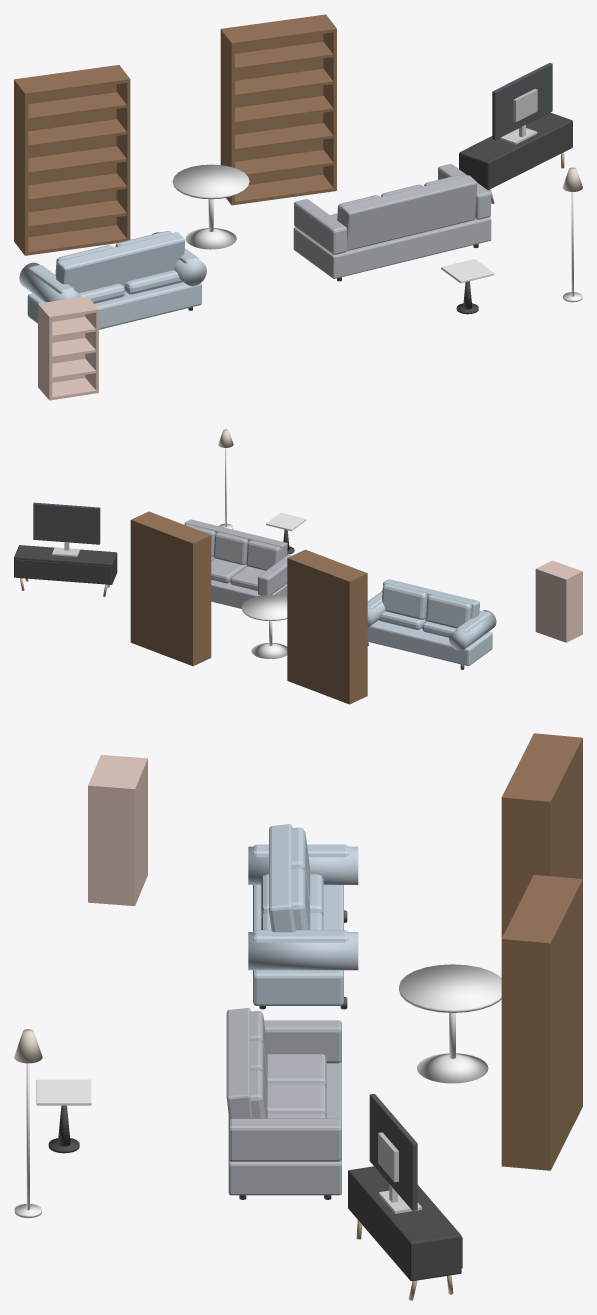
Rendered from agent_scene.glb.
3 renders of one model, top to bottom at view 1: azimuth 30°, elevation 25°; view 2: azimuth 150°, elevation 25°; view 3: azimuth 270°, elevation 25°, orthographic. The views are drawn at different scales.
Visible parts, largest first — view 1: SofaGray_back, BookshelfB_back, BookshelfA_back, SofaGray_base, SofaBlue_back, TVConsole_body, SofaBlue_base, TVConsole_panel, BookshelfA_sideL, TableRound_top, BookshelfA_top, BookshelfB_top (+33 smaller); view 2: BookshelfB_back, BookshelfA_back, SofaBlue_base, TVConsole_panel, BookshelfB_sideL, BookshelfA_sideL, ShelfTower_back, TVConsole_body, SofaBlue_bcL, SofaBlue_bcR, BookshelfA_top, ShelfTower_sideL (+17 smaller); view 3: BookshelfB_sideR, BookshelfB_back, TVConsole_body, ShelfTower_sideR, SofaGray_armL, BookshelfA_sideR, SofaGray_base, SofaBlue_base, TableRound_top, BookshelfA_back, SofaBlue_armL, BookshelfA_top (+19 smaller).
Boxes of the visible parts, <box> form: SofaGray_back: <box>340,175,477,250</box>; BookshelfB_back: <box>220,14,325,184</box>; BookshelfA_back: <box>16,65,119,237</box>; SofaGray_base: <box>293,217,491,278</box>; SofaBlue_back: <box>56,232,185,293</box>; TVConsole_body: <box>459,112,572,189</box>; SofaBlue_base: <box>27,282,201,329</box>; TVConsole_panel: <box>492,63,552,139</box>; BookshelfA_sideL: <box>14,79,28,255</box>; TableRound_top: <box>172,164,249,199</box>; BookshelfA_top: <box>17,65,130,96</box>; BookshelfB_top: <box>223,15,336,45</box>; BookshelfB_back: <box>130,520,194,665</box>; BookshelfA_back: <box>287,557,350,704</box>; SofaBlue_base: <box>367,620,492,665</box>; TVConsole_panel: <box>33,502,100,544</box>; BookshelfB_sideL: <box>191,534,211,663</box>; BookshelfA_sideL: <box>348,572,367,701</box>; ShelfTower_back: <box>536,569,566,642</box>; TVConsole_body: <box>14,545,117,584</box>; SofaBlue_bcL: <box>382,583,426,619</box>; SofaBlue_bcR: <box>426,594,471,628</box>; BookshelfA_top: <box>287,550,367,583</box>; ShelfTower_sideL: <box>564,571,582,640</box>; BookshelfB_sideR: <box>501,937,551,1169</box>; BookshelfB_back: <box>547,879,582,1170</box>; TVConsole_body: <box>348,1166,461,1281</box>; ShelfTower_sideR: <box>88,784,135,905</box>; SofaGray_armL: <box>228,1118,341,1161</box>; BookshelfA_sideR: <box>501,796,551,937</box>; SofaGray_base: <box>228,1060,341,1195</box>; SofaBlue_base: <box>253,885,343,1005</box>; TableRound_top: <box>399,964,501,1012</box>; BookshelfA_back: <box>547,737,582,878</box>; SofaBlue_armL: <box>248,932,358,970</box>; BookshelfA_top: <box>501,733,582,801</box>.
Size of what is drawn, in the model's own units: 8.59 by 2.11 by 4.76.
